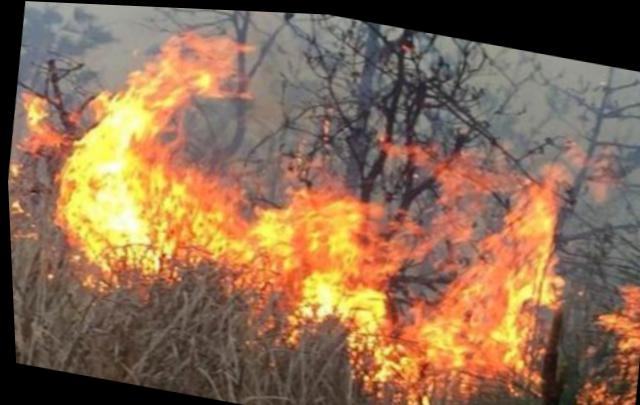fire: (34, 15, 587, 403)
